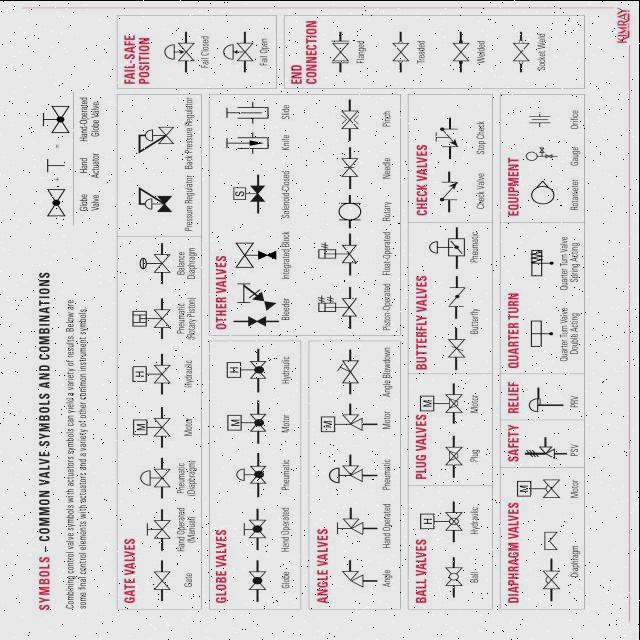Gate Valve: (149, 566, 175, 596)
